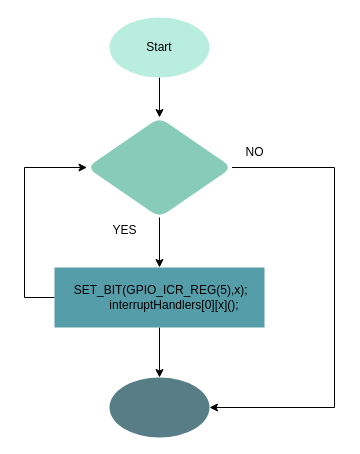
Some shapes in this 360 by 454 pixel diagram are drawn without their labels. Each missing label, with the centre of its shape:
"for(Uint8_t x=0;x<5;x++)" goes at [159,167].
"Stop" goes at [159,407].
